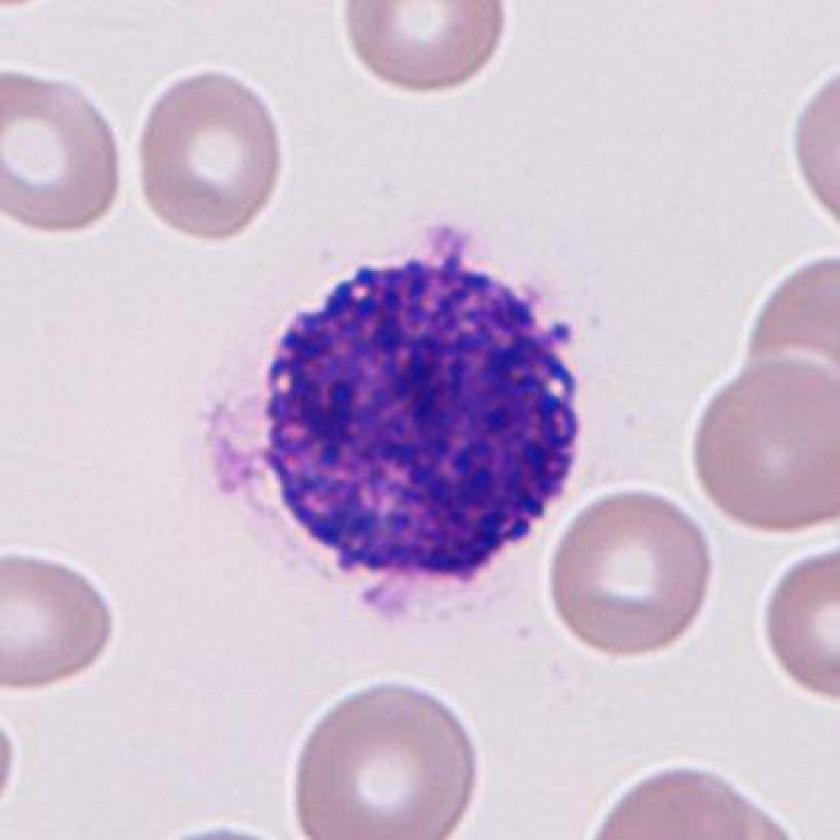basophil: (261, 247, 587, 584)
